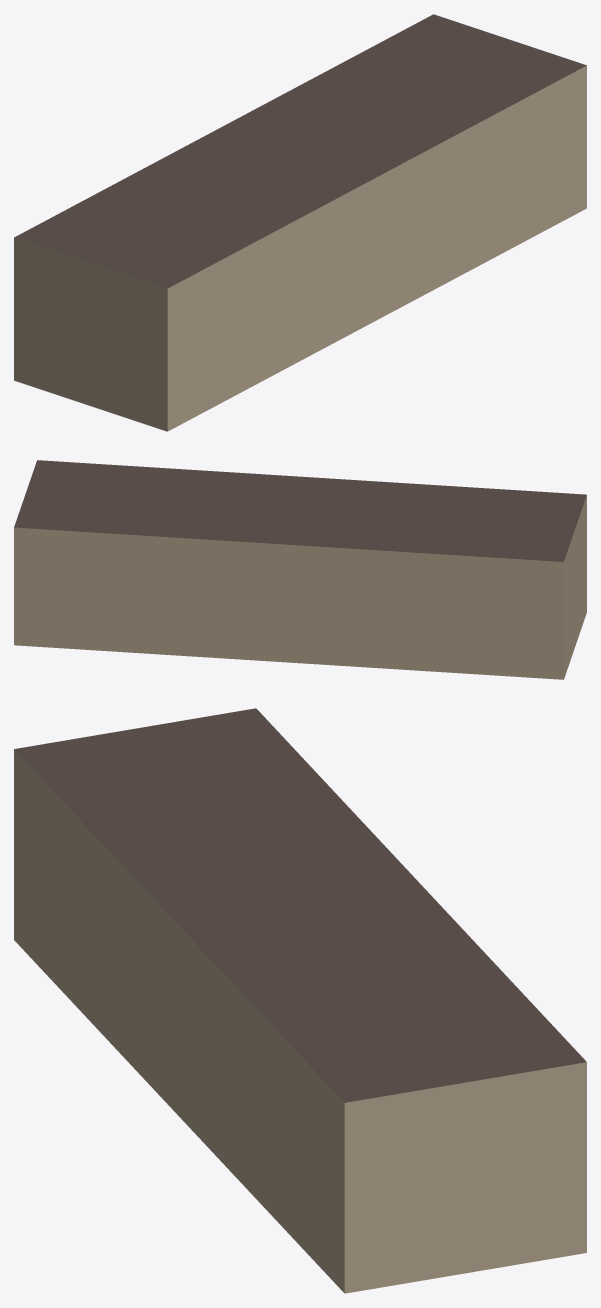
3 views of the same model, one above another, from view 1: azimuth 30°, elevation 25°; view 2: azimuth 150°, elevation 25°; view 3: azimuth 270°, elevation 25° (orthographic). The views are drawn at different scales.
Visible parts, largest first — view 1: HP-w293397500; view 2: HP-w293397500; view 3: HP-w293397500.
Boxes of the visible parts, x1,y1,x2,y2 form: HP-w293397500: (14,14,586,431); HP-w293397500: (14,460,586,679); HP-w293397500: (14,708,586,1293).
Bounding box in the file's own units: 39.91 × 9 × 24.49.
